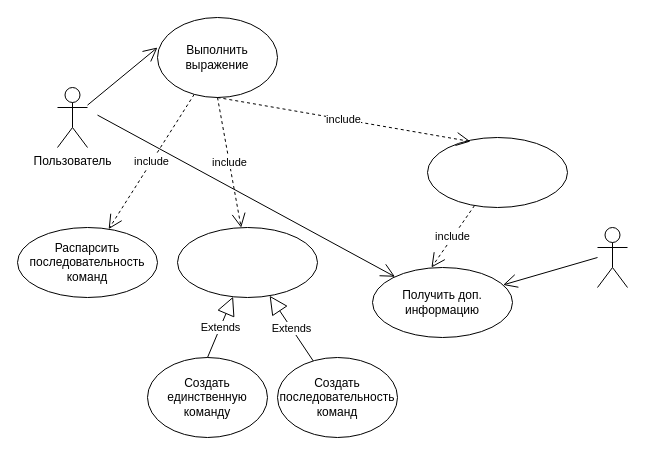
The diagram is 658 pixels wide and 455 high, and some of its shapes have lost their labels. Here are the shapes that lost their labels. From the top down, the box of each, then its label:
(426, 136, 568, 208): Выполнить команду
(176, 226, 318, 298): Создать команды
(596, 226, 628, 288): Файловая система
